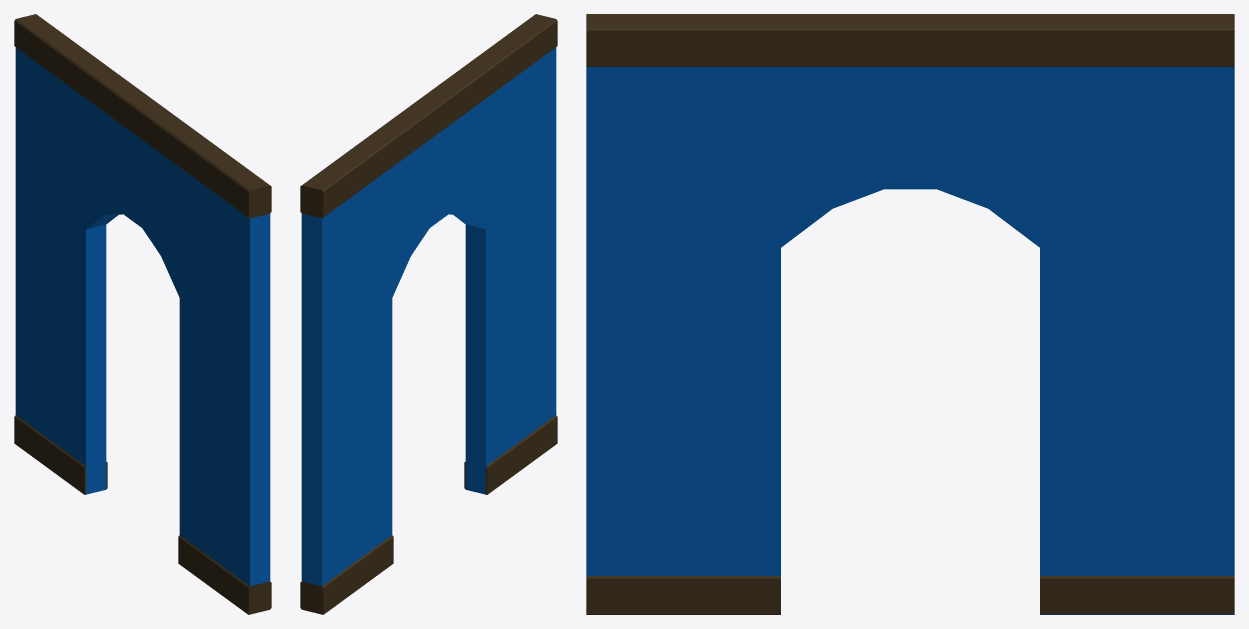
Rendered from Door_Tile.fbx.
3 renders of one model, left to right at view 1: azimuth 30°, elevation 25°; view 2: azimuth 150°, elevation 25°; view 3: azimuth 270°, elevation 25°, orthographic. The views are drawn at different scales.
Parts seen in each view (by area): view 1: DoorWallTile; view 2: DoorWallTile; view 3: DoorWallTile.
Part boxes in pixels (x1,y1,x2,y2): DoorWallTile: (14,14,271,614); DoorWallTile: (300,14,557,614); DoorWallTile: (586,14,1234,614).
Size of the model in its own units: 34 by 600 by 600.
